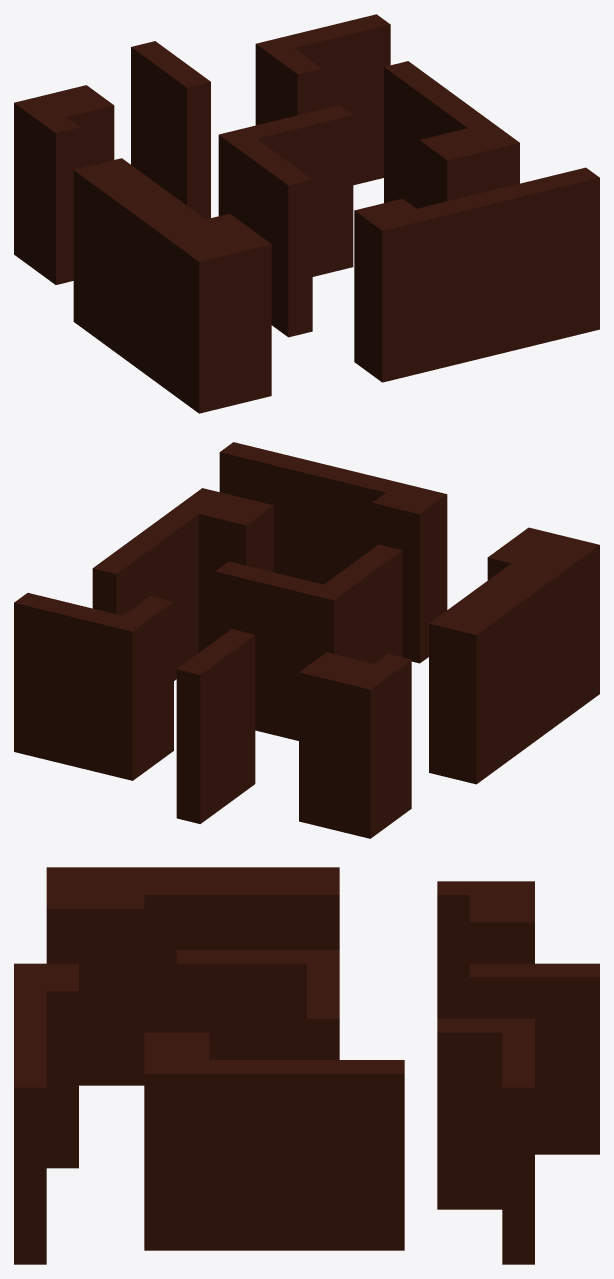
File: Arenadindingdalam.FBX
3 renders of one model, top to bottom at view 1: azimuth 30°, elevation 25°; view 2: azimuth 150°, elevation 25°; view 3: azimuth 270°, elevation 25°, orthographic. The views are drawn at different scales.
Visible parts, largest first — view 1: Box022, Box004, Box005, Box021, Box016, Box017, Box018, Box024, Box011, Box019, Box020, Box010 (+1 smaller); view 2: Box005, Box011, Box022, Box017, Box016, Box024, Box010, Box019, Box004, Box021, Box023, Box020 (+1 smaller); view 3: Box019, Box005, Box004, Box016, Box020, Box018, Box010, Box022, Box021, Box011, Box024, Box023 (+1 smaller).
Part boxes in pixels (x1=…): Box022: x1=417, y1=167, x2=599, y2=370; Box004: x1=157, y1=213, x2=271, y2=413; Box005: x1=73, y1=158, x2=205, y2=382; Box021: x1=354, y1=198, x2=430, y2=382; Box016: x1=131, y1=41, x2=210, y2=219; Box017: x1=218, y1=105, x2=353, y2=276; Box018: x1=232, y1=139, x2=312, y2=337; Box024: x1=14, y1=97, x2=79, y2=284; Box011: x1=280, y1=14, x2=390, y2=185; Box019: x1=384, y1=61, x2=491, y2=208; Box020: x1=419, y1=122, x2=519, y2=207; Box010: x1=255, y1=38, x2=321, y2=125; Box005: x1=429, y1=563, x2=558, y2=784; Box011: x1=14, y1=593, x2=121, y2=774; Box022: x1=219, y1=442, x2=399, y2=584; Box017: x1=215, y1=561, x2=347, y2=740; Box016: x1=176, y1=629, x2=255, y2=823; Box024: x1=346, y1=654, x2=411, y2=838; Box010: x1=109, y1=596, x2=173, y2=780; Box019: x1=92, y1=508, x2=198, y2=680; Box004: x1=487, y1=527, x2=599, y2=723; Box021: x1=372, y1=482, x2=447, y2=663; Box023: x1=299, y1=652, x2=373, y2=832; Box020: x1=175, y1=488, x2=273, y2=652; Box019: x1=209, y1=1060, x2=404, y2=1250; Box005: x1=144, y1=867, x2=339, y2=1032; Box004: x1=46, y1=867, x2=144, y2=1085; Box016: x1=469, y1=963, x2=599, y2=1154; Box020: x1=144, y1=1032, x2=209, y2=1250; Box018: x1=176, y1=950, x2=306, y2=1059; Box010: x1=437, y1=1018, x2=534, y2=1209; Box022: x1=14, y1=991, x2=46, y2=1264; Box021: x1=14, y1=963, x2=78, y2=1168; Box011: x1=502, y1=1032, x2=534, y2=1264; Box024: x1=437, y1=881, x2=534, y2=1018; Box023: x1=469, y1=895, x2=534, y2=963.
Bounding box in the file's own units: 160 × 60 × 180.
